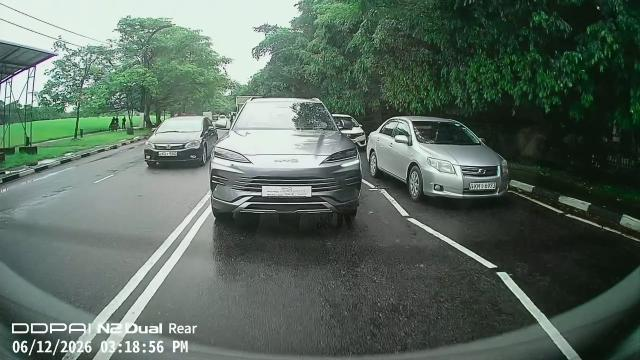illegal overtaking: (134, 110, 219, 178)
